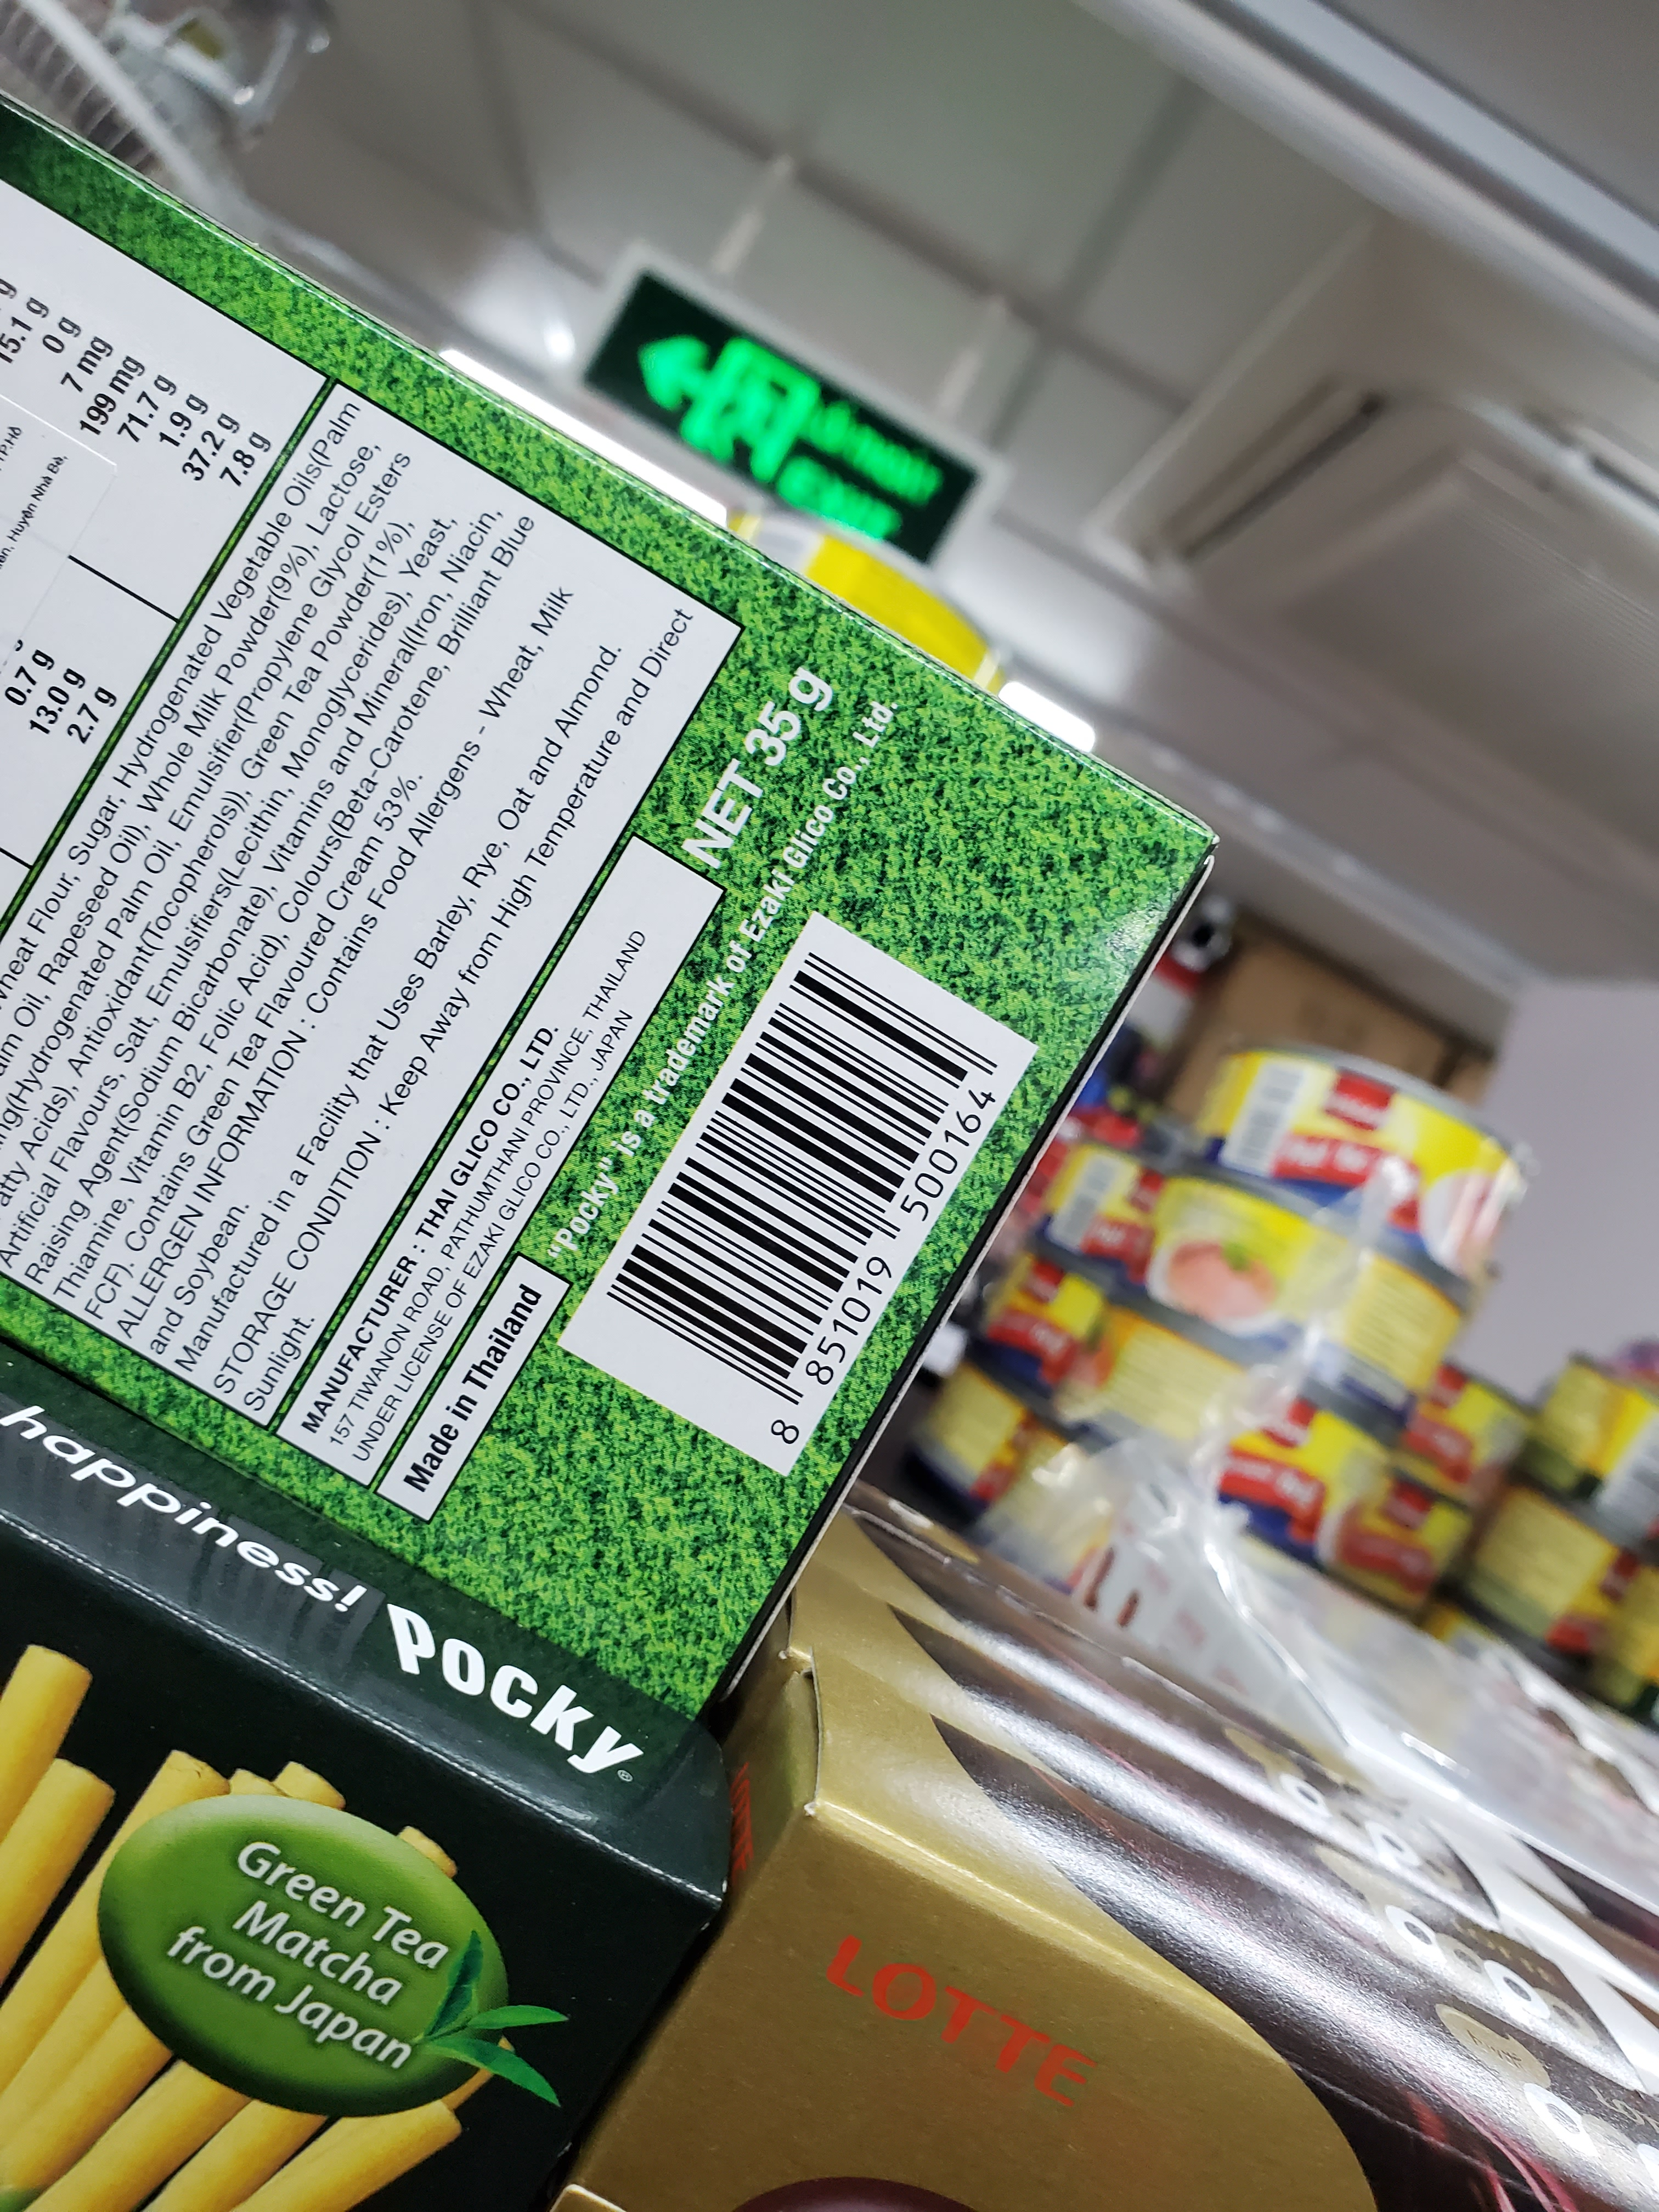barcode: (599, 930, 1023, 1512)
